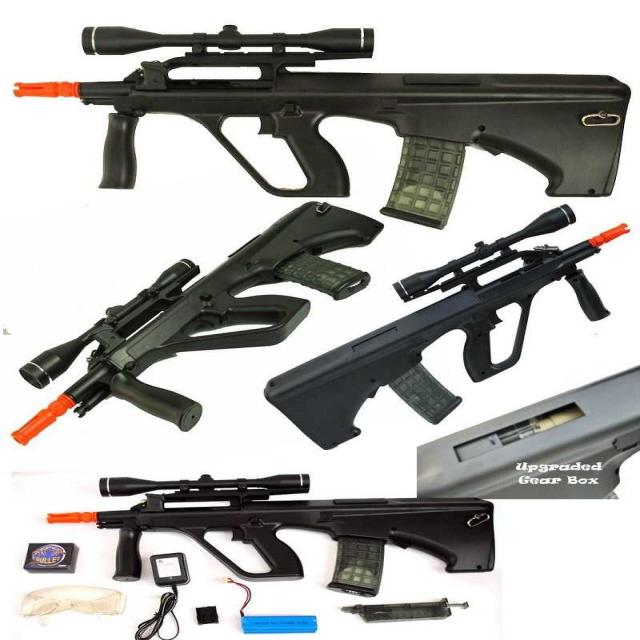RifleTel: (8, 14, 624, 210), (8, 193, 396, 458), (34, 469, 508, 587)
